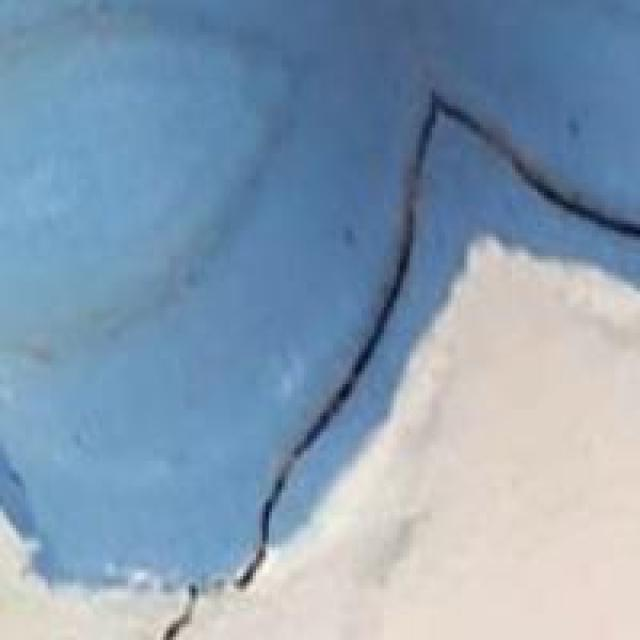Crack: (157, 67, 637, 637)
